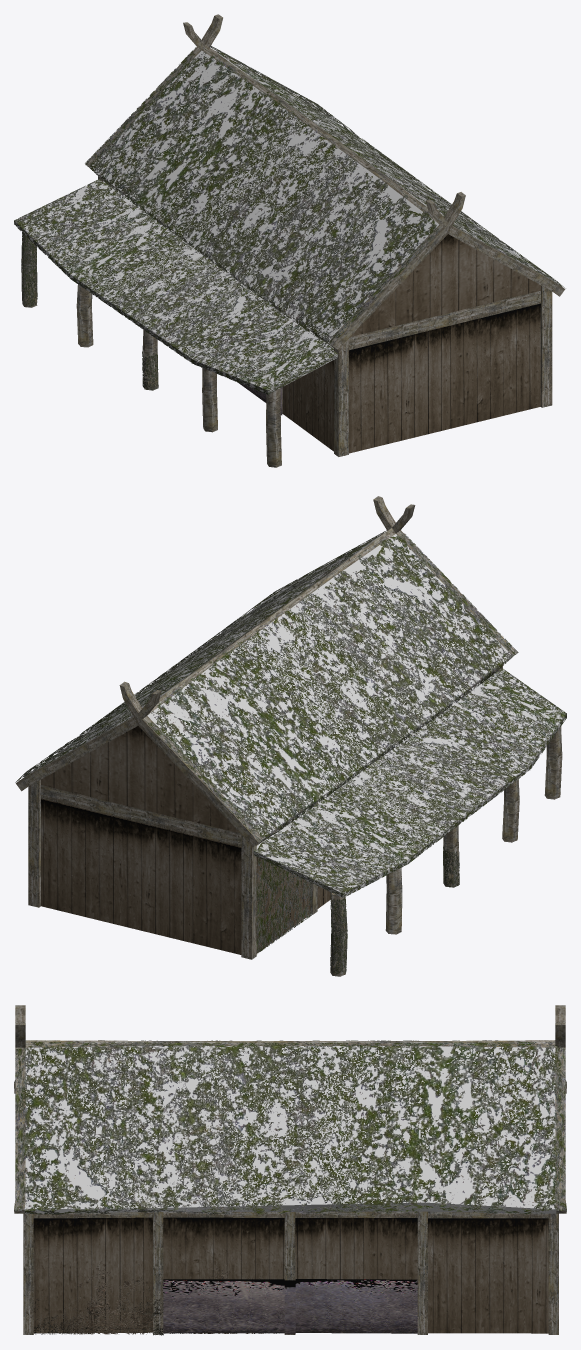
Rendered from Storehouse_LOD03.fbx.
3 views of the same model, one above another, from view 1: azimuth 30°, elevation 25°; view 2: azimuth 150°, elevation 25°; view 3: azimuth 270°, elevation 25° (orthographic). The views are drawn at different scales.
Parts seen in each view (by area): view 1: Mesh Object; view 2: Mesh Object; view 3: Mesh Object.
Boxes of the visible parts, x1,y1,x2,y2 form: Mesh Object: [14, 14, 565, 467]; Mesh Object: [15, 496, 566, 976]; Mesh Object: [14, 1005, 566, 1335].
Bounding box in the file's own units: 7.6 × 5.48 × 10.45.
